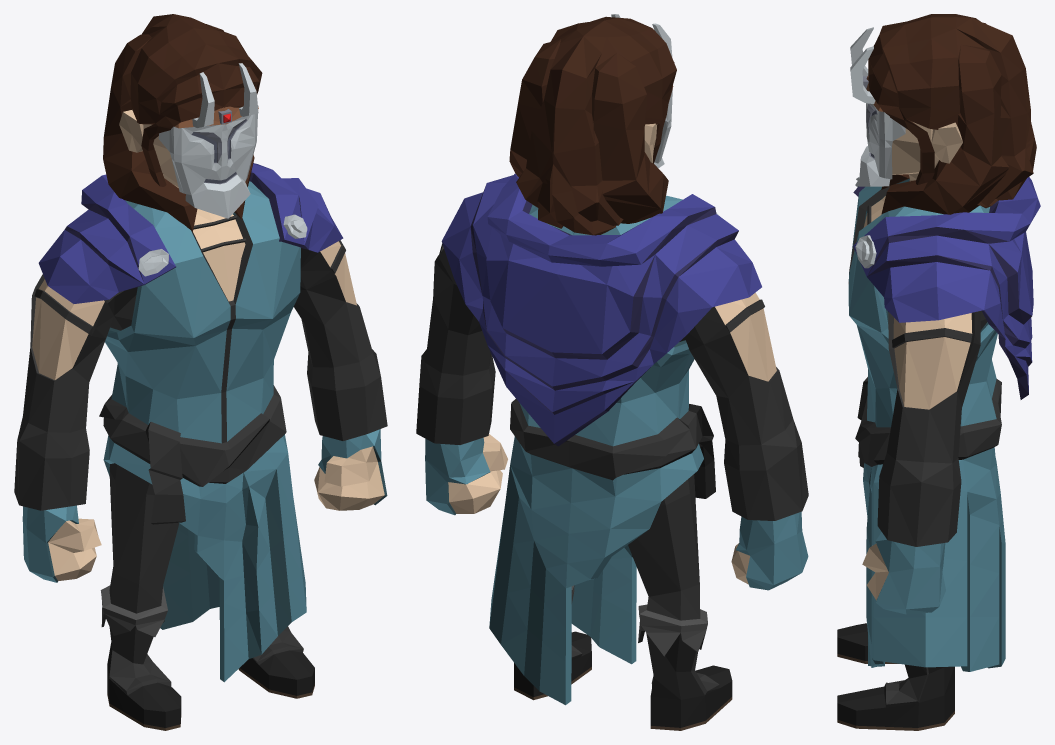
Rendered from priest_dusk.fbx.
The picture shows the model from 3 angles, left to right: view 1: azimuth 30°, elevation 25°; view 2: azimuth 150°, elevation 25°; view 3: azimuth 270°, elevation 25°; orthographic projection. The views are drawn at different scales.
Visible parts, largest first — view 1: base_08_priestDusk_tri:priestOfDusk, base_08_priestDusk_tri:Layer2; view 2: base_08_priestDusk_tri:priestOfDusk, base_08_priestDusk_tri:Layer2; view 3: base_08_priestDusk_tri:priestOfDusk, base_08_priestDusk_tri:Layer2.
Boxes of the visible parts, x1,y1,x2,y2 form: base_08_priestDusk_tri:priestOfDusk: [14, 14, 387, 730]; base_08_priestDusk_tri:Layer2: [158, 63, 258, 218]; base_08_priestDusk_tri:priestOfDusk: [416, 16, 808, 730]; base_08_priestDusk_tri:Layer2: [611, 14, 673, 168]; base_08_priestDusk_tri:priestOfDusk: [837, 14, 1040, 730]; base_08_priestDusk_tri:Layer2: [850, 27, 905, 186].
Bounding box in the file's own units: 528 × 906 × 250.
